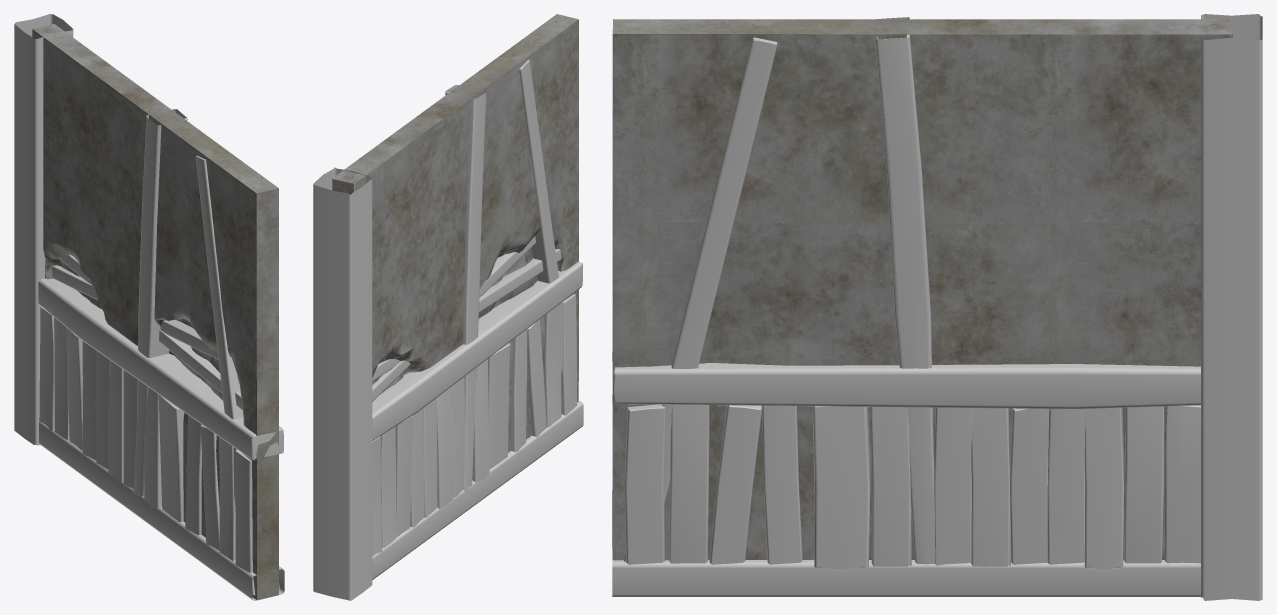
File: SM_Wall29.fbx
3 renders of one model, left to right at view 1: azimuth 30°, elevation 25°; view 2: azimuth 150°, elevation 25°; view 3: azimuth 270°, elevation 25°, orthographic. The views are drawn at different scales.
Visible parts, largest first — view 1: SM_Wall29_LOD0; view 2: SM_Wall29_LOD0; view 3: SM_Wall29_LOD0.
Boxes of the visible parts, x1,y1,x2,y2 form: SM_Wall29_LOD0: [14, 14, 284, 600]; SM_Wall29_LOD0: [313, 14, 583, 600]; SM_Wall29_LOD0: [612, 14, 1262, 600].
Bounding box in the file's own units: 30 × 315 × 302.
